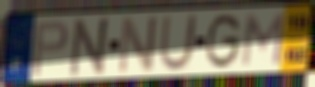G: (204, 12, 244, 71)
M: (239, 11, 287, 68)
N: (67, 15, 114, 78), (116, 14, 160, 76)
P: (30, 19, 71, 78)
U: (157, 13, 200, 73)
